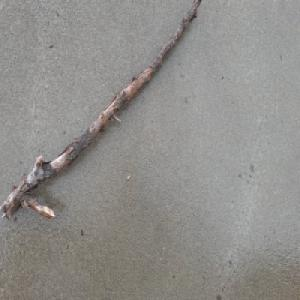Wood: (2, 0, 202, 223)
